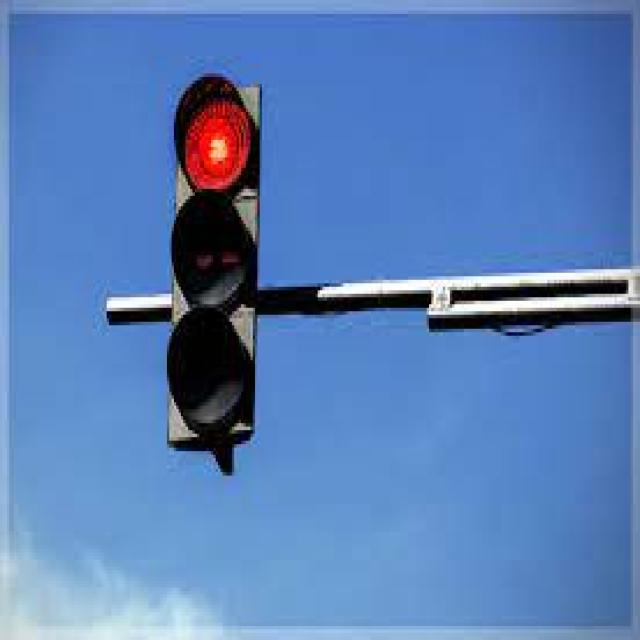red: (163, 72, 256, 457)
